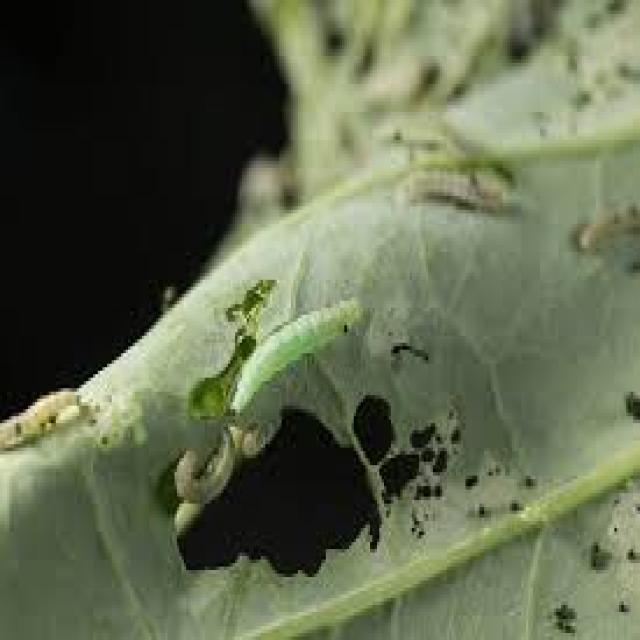Pestalotiopsis: (209, 259, 415, 406), (360, 150, 558, 260), (164, 400, 322, 516), (454, 425, 558, 528), (569, 478, 640, 603), (0, 381, 88, 451), (569, 172, 640, 252)
